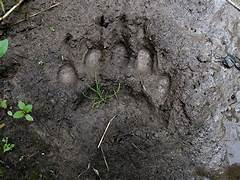bear: (52, 38, 176, 136)
